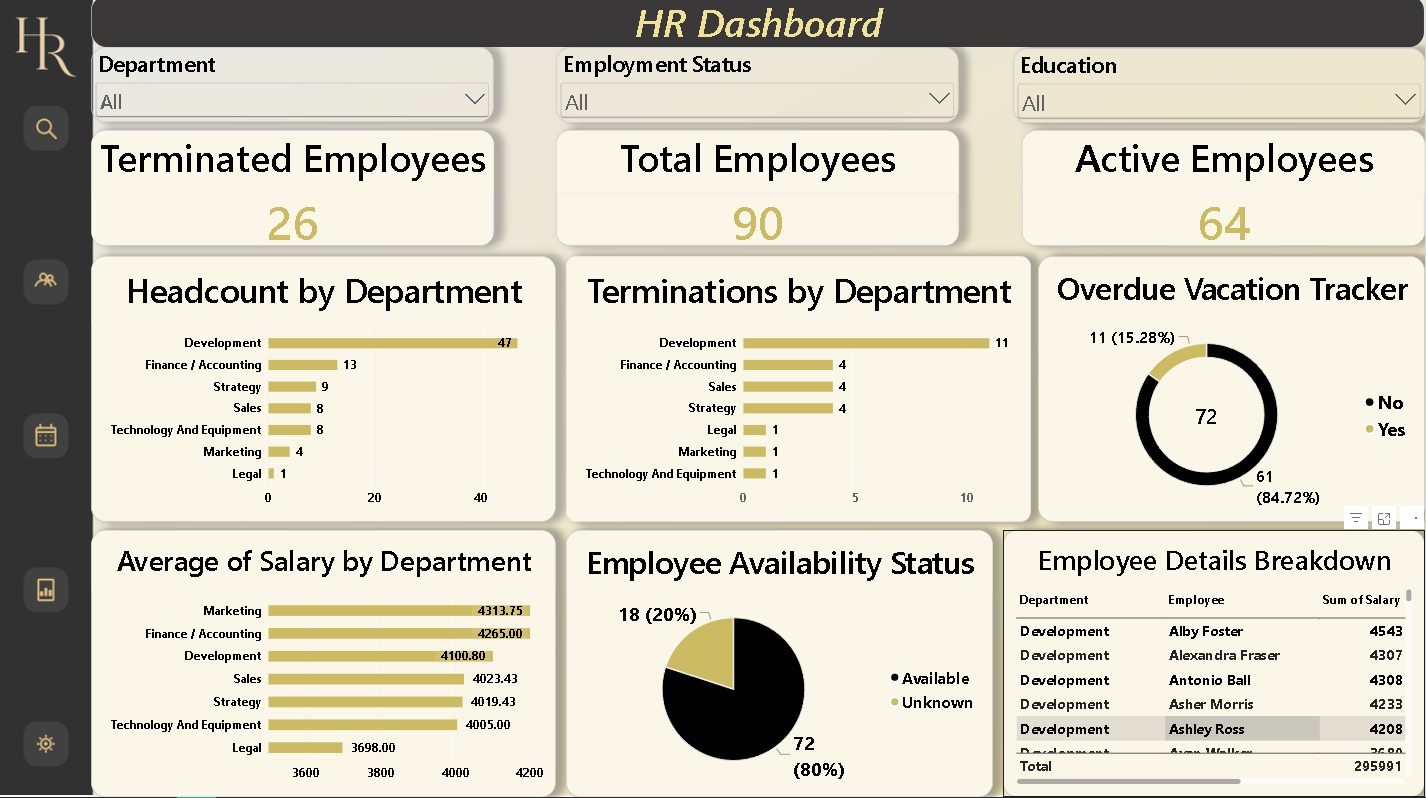

The page's visual inventory and layout, read from the dashboard file:
{"tool":"powerbi","page":{"name":"HR Dashboard","canvas":[1920,1080],"ordinal":0},"visuals":[{"type":"shape","title":"HR Dashboard","box":[123.9,0,1796.4,71.4],"z":0},{"type":"slicer","fields":{"Values":["Sheet1.Department"]},"box":[123.9,70.6,542.2,100.5],"z":1000},{"type":"slicer","fields":{"Values":["Sheet1.Employment Status"]},"box":[750.1,70,542.2,102.3],"z":2000},{"type":"cardVisual","title":"Terminated Employees","fields":{"Data":["CountNonNull(Sheet1.ID)"]},"box":[123.9,181.8,542.7,156.2],"z":4000},{"type":"cardVisual","title":"Total Employees","fields":{"Data":["CountNonNull(Sheet1.ID)"]},"box":[750.1,181.8,542.7,156.2],"z":5000},{"type":"cardVisual","title":"Active Employees","fields":{"Data":["CountNonNull(Sheet1.ID)"]},"box":[1377.6,181.8,542.7,156.2],"z":6000},{"type":"barChart","title":"Headcount by Department","fields":{"Category":["Sheet1.Department"],"Y":["CountNonNull(Sheet1.ID)"]},"box":[123.9,351.5,626.2,358.2],"z":7000},{"type":"barChart","title":"Terminations by Department","fields":{"Category":["Sheet1.Department"],"Y":["CountNonNull(Sheet1.ID)"]},"box":[763.5,351.5,626.2,358.2],"z":8000},{"type":"donutChart","title":"Overdue Vacation Tracker","fields":{"Category":["Employees.Overdue Vacation?"],"Y":["CountNonNull(Employees.ID)"]},"box":[1399.2,351.5,521.1,358.2],"z":9000},{"type":"barChart","fields":{"Category":["Sheet1.Department"],"Y":["Avg(Employees.Salary)"]},"box":[123.9,720.4,626.2,359.6],"z":9001},{"type":"pieChart","title":"Employee Availability Status","fields":{"Category":["Sheet1.Data Status"],"Y":["CountNonNull(Sheet1.ID)"]},"box":[763.5,720.4,575,359.6],"z":9002},{"type":"tableEx","title":"Employee Details Breakdown","fields":{"Values":["Sheet1.Department","Sheet1.Employee","Sum(Employees.Salary)","Sum(Employees.Performance Review)","Employees.Overdue Vacation?"]},"box":[1352,720.4,568.3,359.6],"z":9003},{"type":"slicer","fields":{"Values":["Sheet1.Education"]},"box":[1365.5,71.4,554.8,101],"z":9004}]}

Visuals, with their boxes on the page's 1920x1080 design canvas (x1, y1, x2, y2). These are canvas units, not pixel positions in the 1426x798 screenshot, which may show the page scaled, cropped or inside an application window:
"HR Dashboard" shape: [124, 0, 1920, 71]
slicer - Sheet1.Department: [124, 71, 666, 171]
slicer - Sheet1.Employment Status: [750, 70, 1292, 172]
"Terminated Employees" cardVisual: [124, 182, 667, 338]
"Total Employees" cardVisual: [750, 182, 1293, 338]
"Active Employees" cardVisual: [1378, 182, 1920, 338]
"Headcount by Department" barChart: [124, 352, 750, 710]
"Terminations by Department" barChart: [764, 352, 1390, 710]
"Overdue Vacation Tracker" donutChart: [1399, 352, 1920, 710]
barChart - Sheet1.Department x Avg(Employees.Salary): [124, 720, 750, 1080]
"Employee Availability Status" pieChart: [764, 720, 1338, 1080]
"Employee Details Breakdown" tableEx: [1352, 720, 1920, 1080]
slicer - Sheet1.Education: [1366, 71, 1920, 172]
